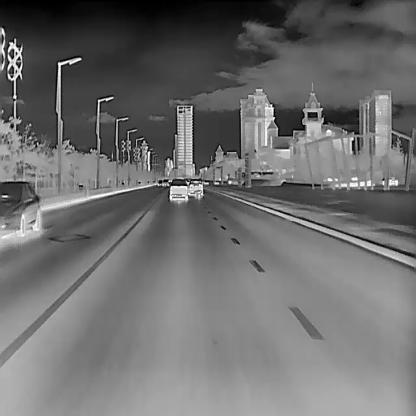car: (0, 180, 39, 236), (169, 179, 187, 200), (186, 178, 202, 196), (381, 176, 396, 186), (164, 179, 168, 187), (157, 180, 162, 186)
